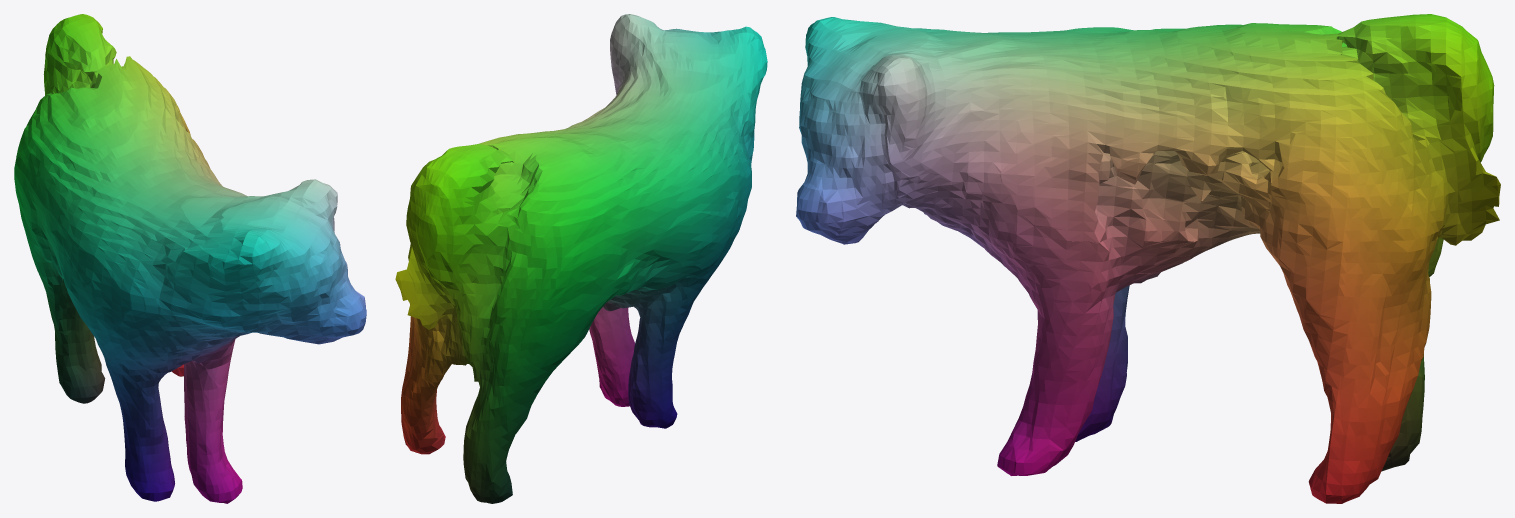
Rendered from shiba-haru-1001-mesh-00086.obj.
The picture shows the model from 3 angles, left to right: view 1: azimuth 30°, elevation 25°; view 2: azimuth 150°, elevation 25°; view 3: azimuth 270°, elevation 25°; orthographic projection. The views are drawn at different scales.
Bounding box in the file's own units: 0.0542 × 0.0847 × 0.1166.
